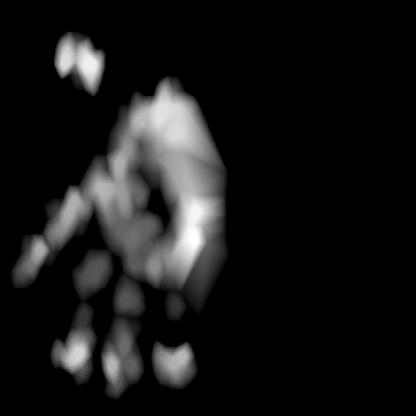fingers: (53, 32, 103, 91)
palm: (18, 178, 93, 380), (51, 293, 194, 391)
thumb: (95, 78, 222, 289)
